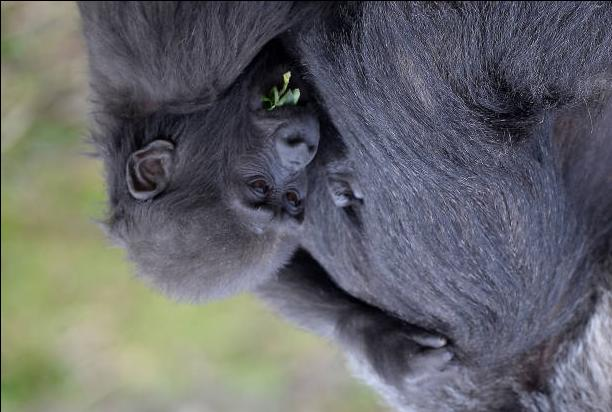gorille_Autres: (96, 0, 394, 369)
